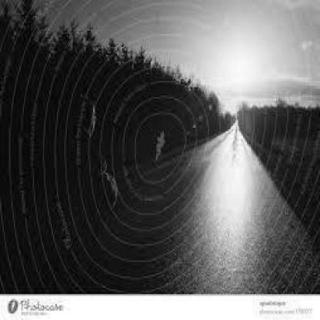other: (223, 48, 254, 90)
